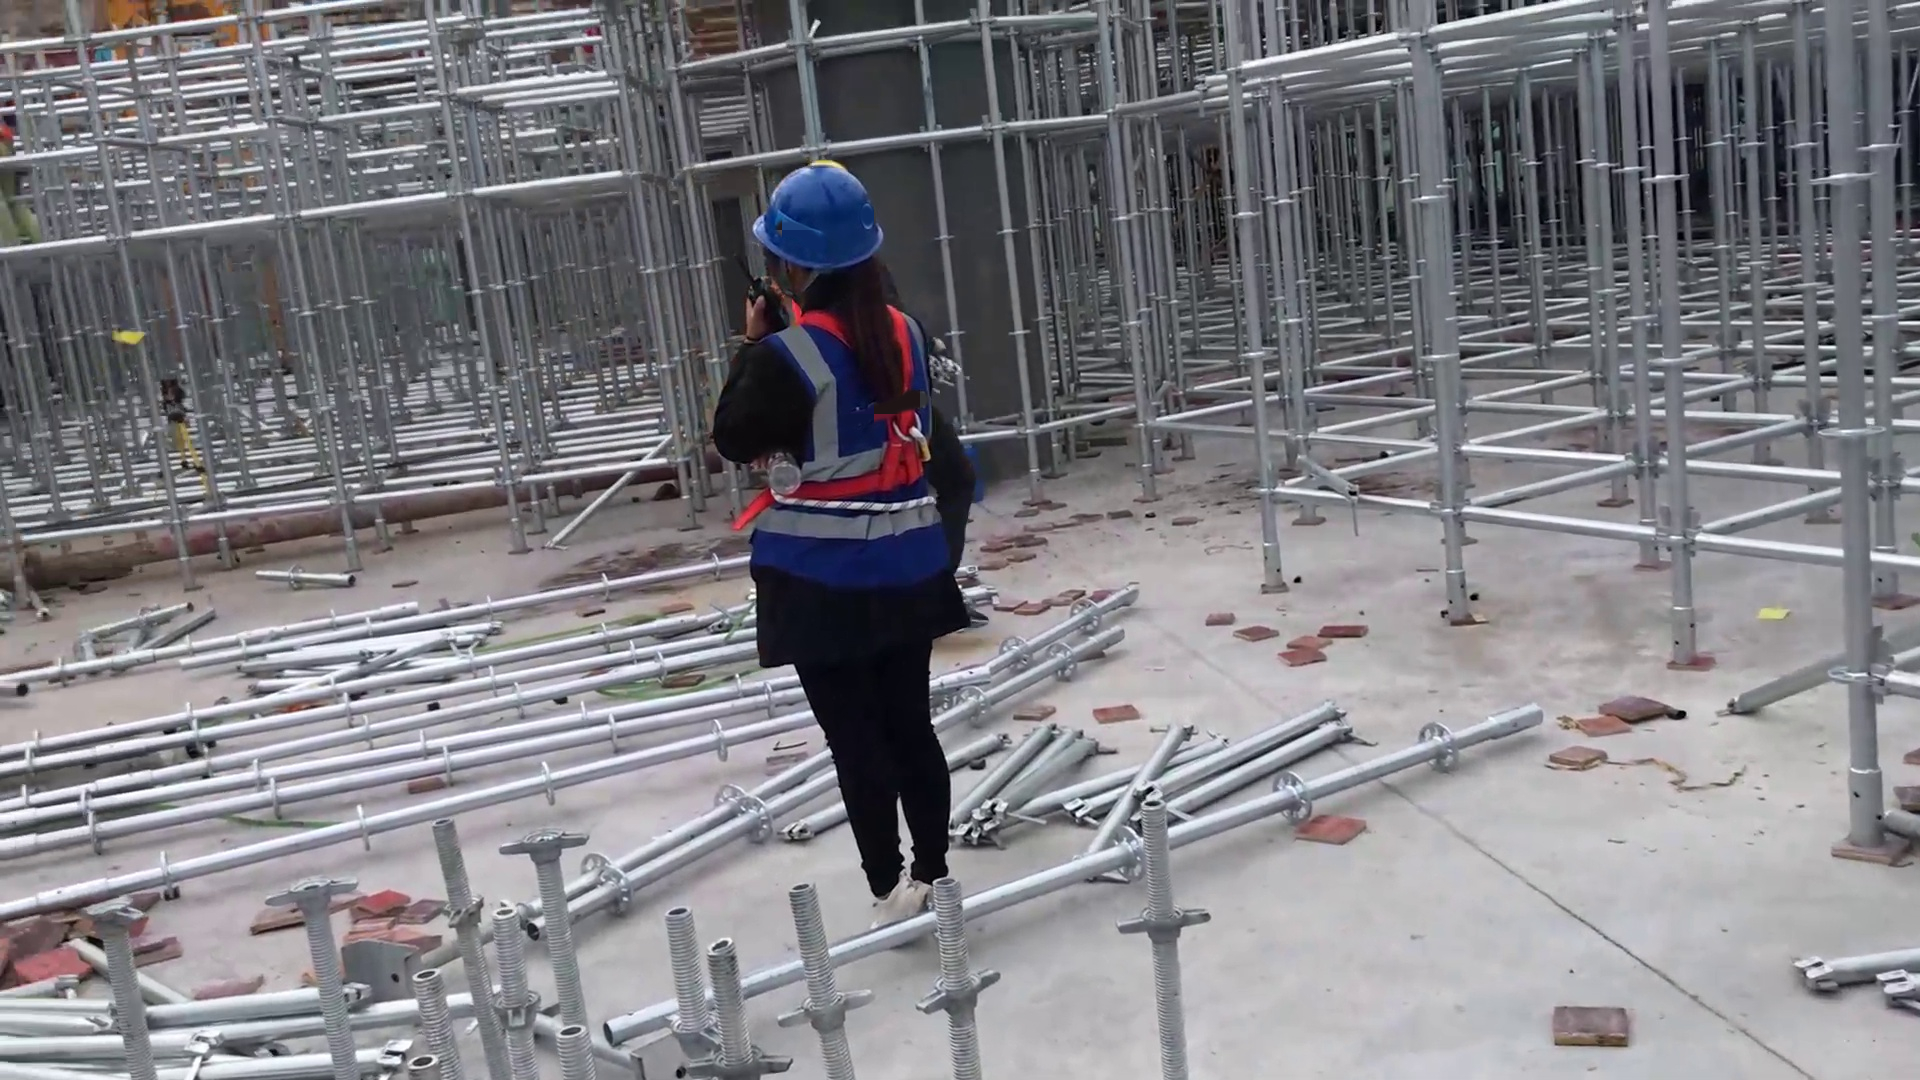helmet: (749, 163, 891, 273)
person: (729, 159, 973, 920)
vest: (743, 309, 959, 586)
